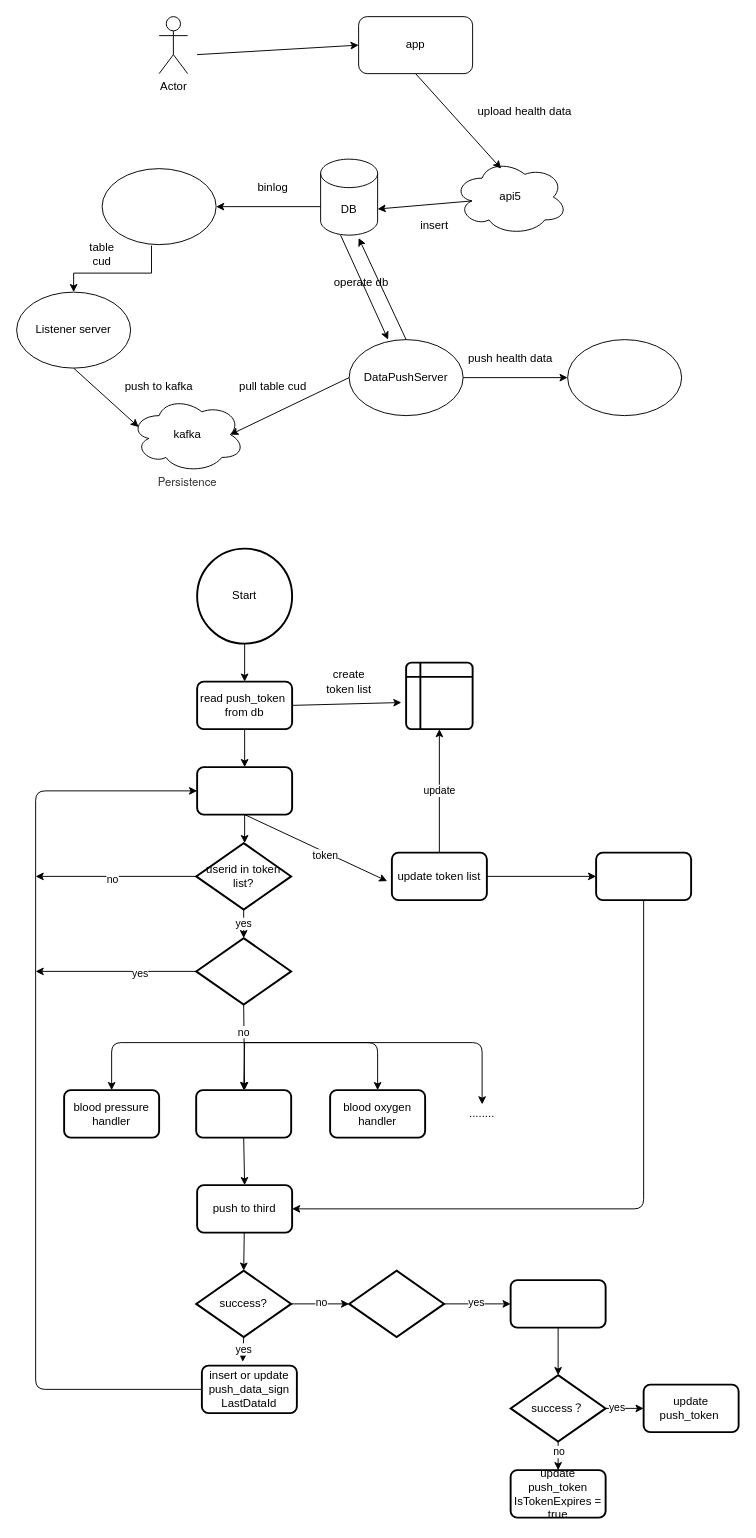
Some shapes in this 756 by 1538 pixel diagram are drawn without their labels. Each missing label, with the centre of its shape:
begin select data from db and push to third where >DataId & > CreateTime: point (643, 876)
blood glucose handler: point (243, 1113)
canal: point (158, 206)
pull data from kafka: point (244, 790)
refresh toke: point (557, 1303)
refresh token expire?: point (243, 971)
third: point (624, 377)
token expire: point (396, 1303)
token list: point (439, 695)
